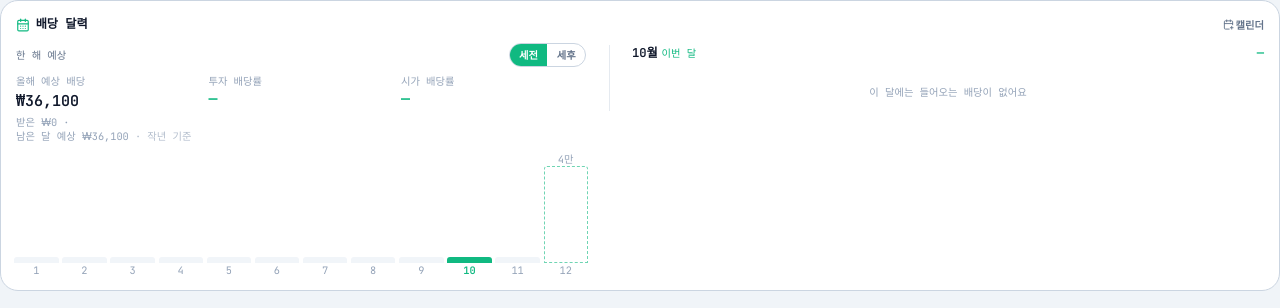
Test: 배당 달력의 캘린더 단추 › 남은 날짜가 아예 없으면 그렇게 말한다
Click the button "캘린더".
click(1243, 25)  # box top-left (1223, 18), bottom-right (1264, 32)
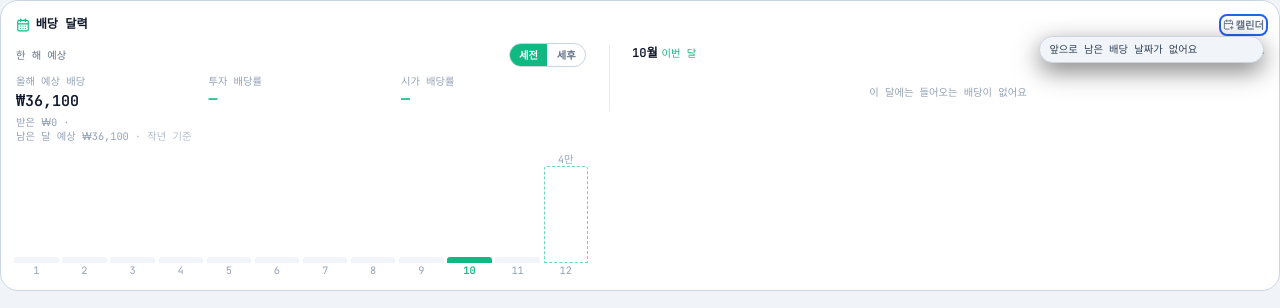
Check: the message reads "앞으로 남은 배당 날짜가 없어요", box top-left (1049, 42), bottom-right (1197, 56)
